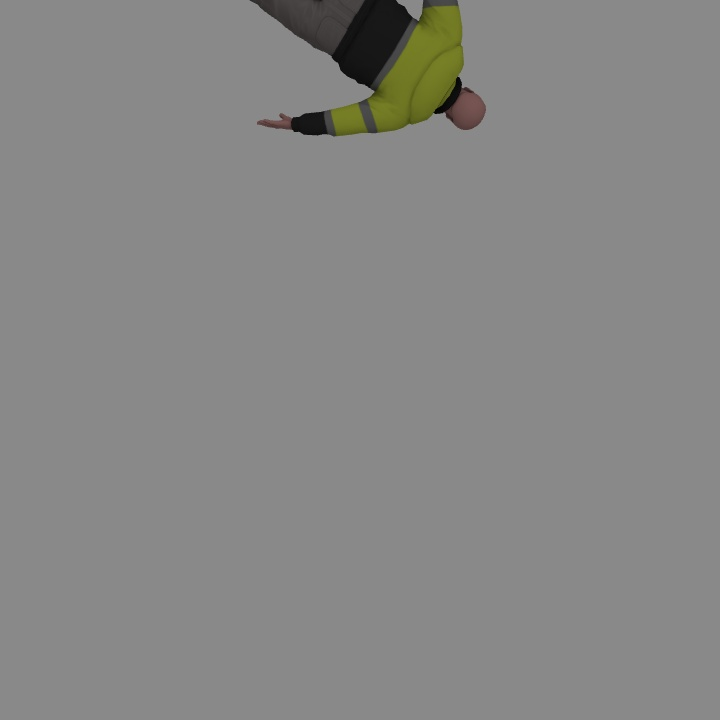victim: (273, 1, 487, 138)
